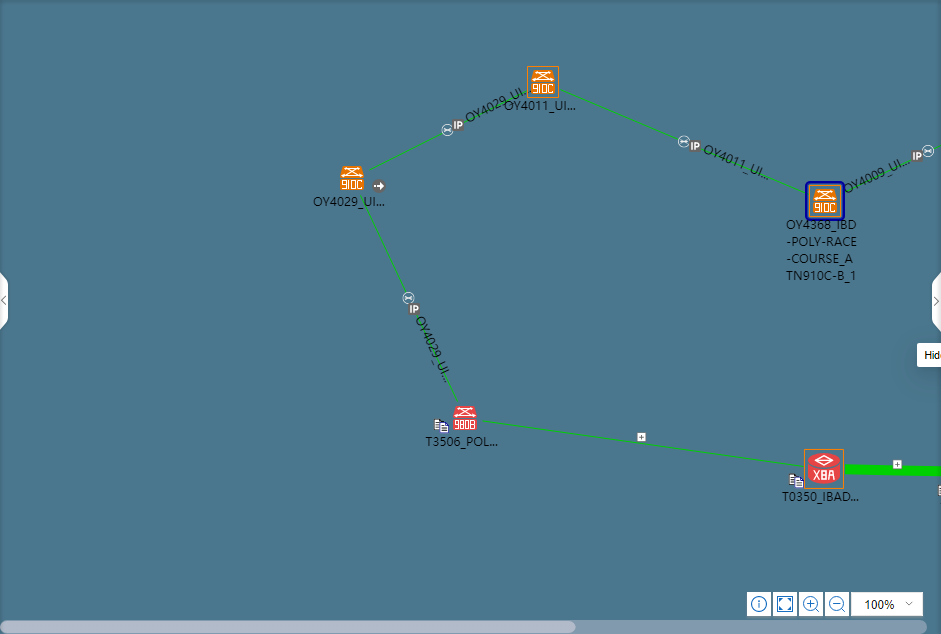ATN_Orange: (527, 67, 556, 96), (812, 189, 837, 214), (340, 167, 363, 190)
ATN_Red: (453, 407, 476, 431)
Link_Green: (560, 88, 804, 195), (357, 194, 461, 405), (481, 418, 803, 470), (367, 89, 525, 174), (846, 141, 941, 195), (845, 464, 941, 478)
Router_Red: (806, 453, 840, 485)
